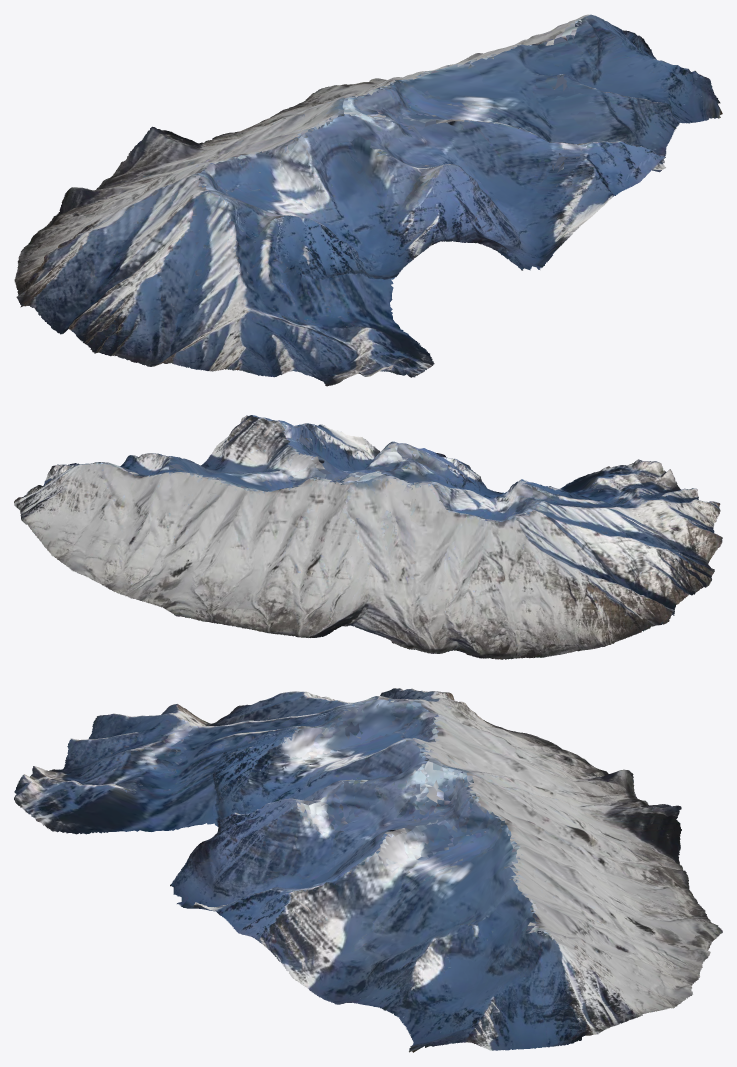
Rendered from timp.glb.
The picture shows the model from 3 angles, top to bottom: view 1: azimuth 30°, elevation 25°; view 2: azimuth 150°, elevation 25°; view 3: azimuth 270°, elevation 25°; orthographic projection. The views are drawn at different scales.
Parts seen in each view (by area): view 1: Object_2; view 2: Object_2; view 3: Object_2.
Part boxes in pixels (x1,y1,x2,y2): Object_2: [14, 14, 722, 386]; Object_2: [14, 415, 722, 659]; Object_2: [14, 688, 722, 1052].
Bounding box in the file's own units: 5.28 × 0.8296 × 4.14.
Materials: 1 (1 with a texture image).
